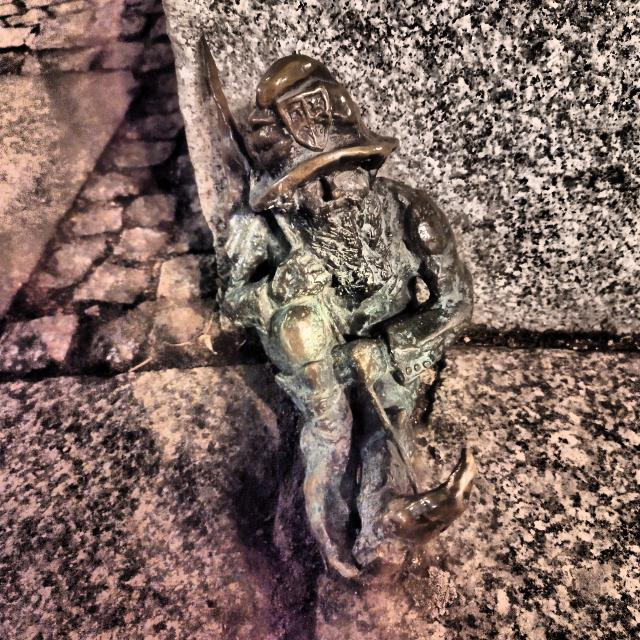Spioch: (202, 39, 475, 578)
